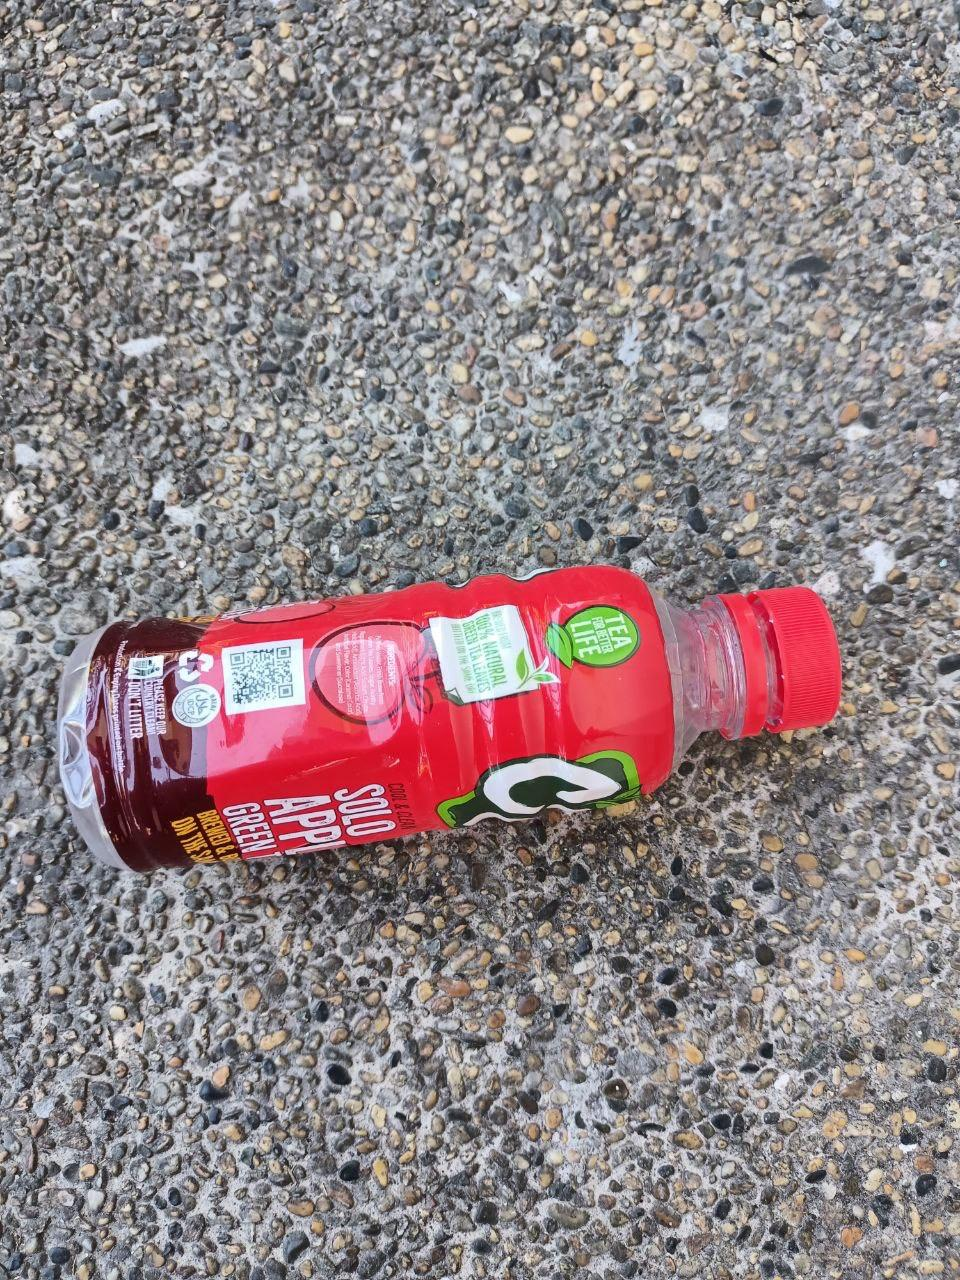plastic: (46, 548, 918, 846)
